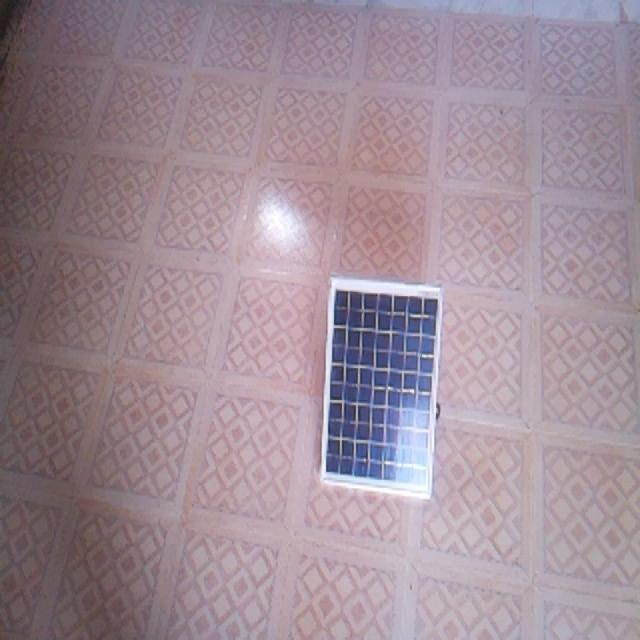Normal Solar Panel: (323, 276, 443, 500)
